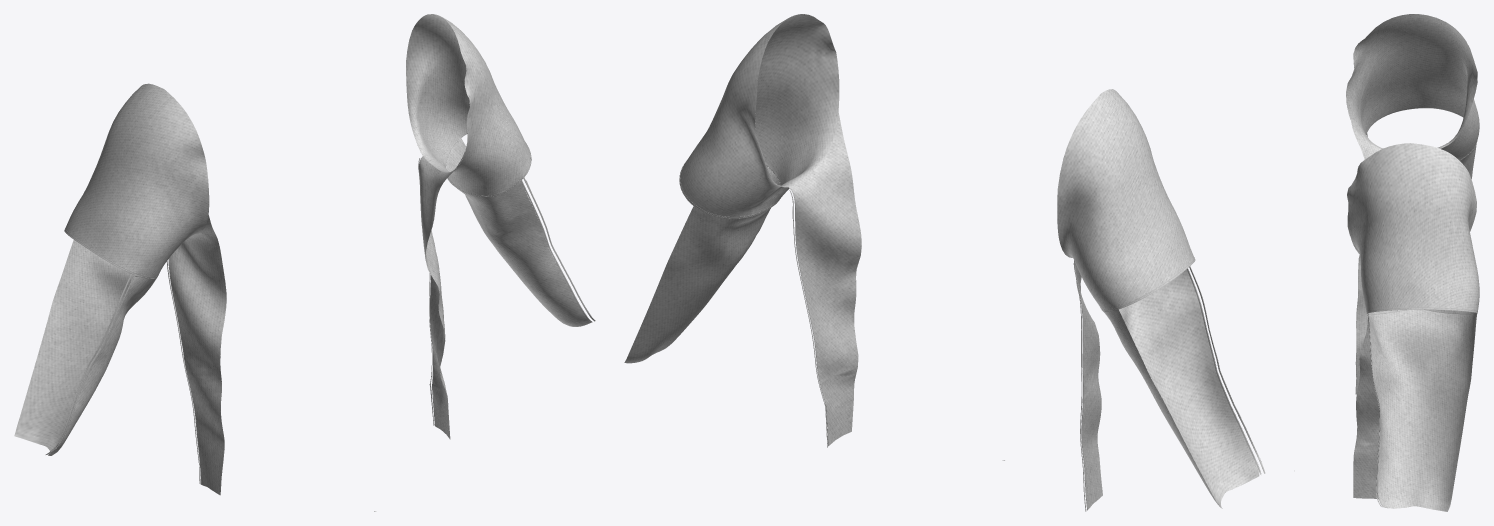
The model's file is Jac_Hands.glb.
3 views of the same model, side by side, from view 1: azimuth 30°, elevation 25°; view 2: azimuth 150°, elevation 25°; view 3: azimuth 270°, elevation 25° (orthographic). The views are drawn at different scales.
Visible parts, largest first — view 1: Jac_Hands1, Rope1; view 2: Jac_Hands1, Rope1; view 3: Jac_Hands1, Rope1.
Boxes of the visible parts, bbox=[...] form: Jac_Hands1: bbox=[14, 14, 590, 511]; Rope1: bbox=[45, 143, 595, 484]; Jac_Hands1: bbox=[624, 14, 1259, 509]; Rope1: bbox=[679, 160, 1265, 511]; Jac_Hands1: bbox=[1294, 14, 1479, 511]; Rope1: bbox=[1366, 133, 1477, 507].
Size of the model in its own units: 1.52 by 1.1 by 0.4735.
Materials: 2 (2 with a texture image).
